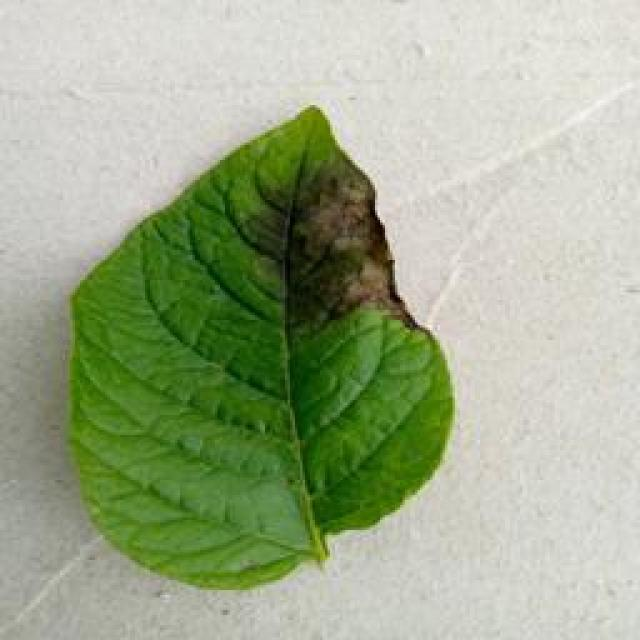late_blight: (62, 100, 458, 595)
